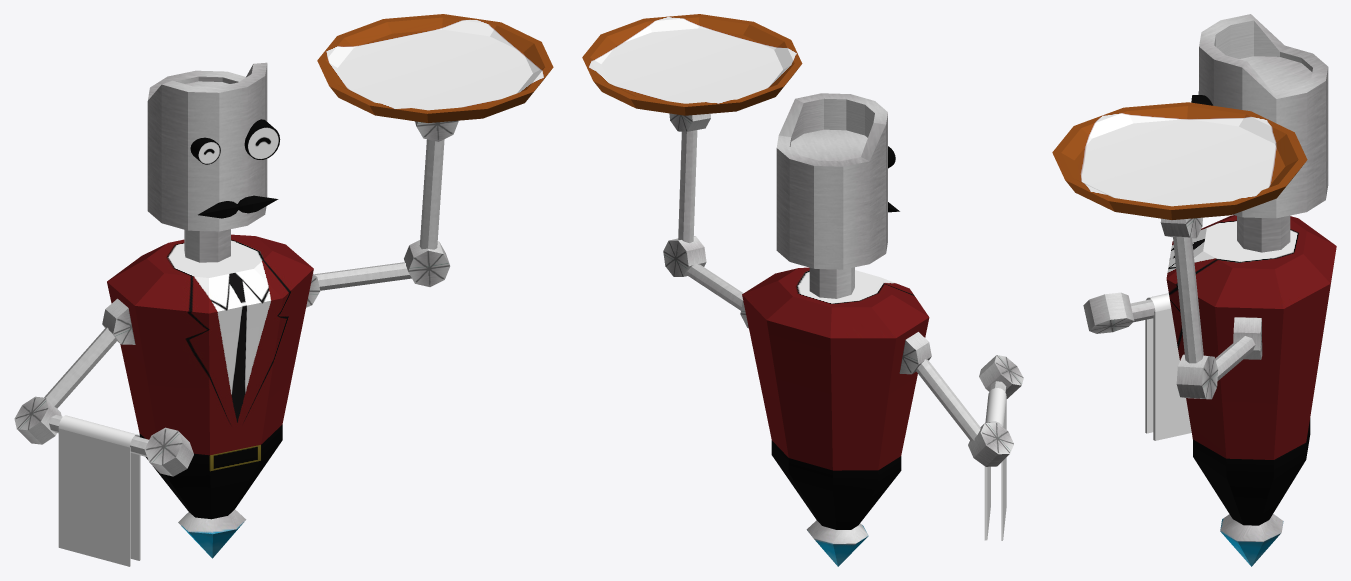
File: robot_waiter.glb
3 views of the same model, side by side, from view 1: azimuth 30°, elevation 25°; view 2: azimuth 150°, elevation 25°; view 3: azimuth 270°, elevation 25° (orthographic). The views are drawn at different scales.
Visible parts, largest first — view 1: polySurface133; view 2: polySurface133; view 3: polySurface133.
Boxes of the visible parts, x1,y1,x2,y2 form: polySurface133: [14, 14, 553, 566]; polySurface133: [582, 14, 1023, 566]; polySurface133: [1052, 14, 1336, 566].
Bounding box in the file's own units: 1.79 × 1.72 × 0.8445.
1 material, 1 textured.
